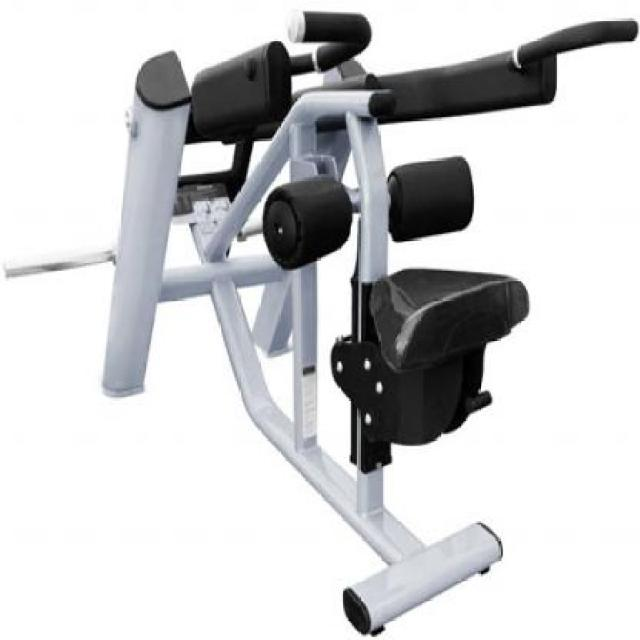seated dip machine: (6, 14, 640, 640)
